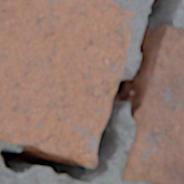brick: (0, 0, 135, 166), (122, 25, 183, 183)
crack: (0, 0, 182, 183)
